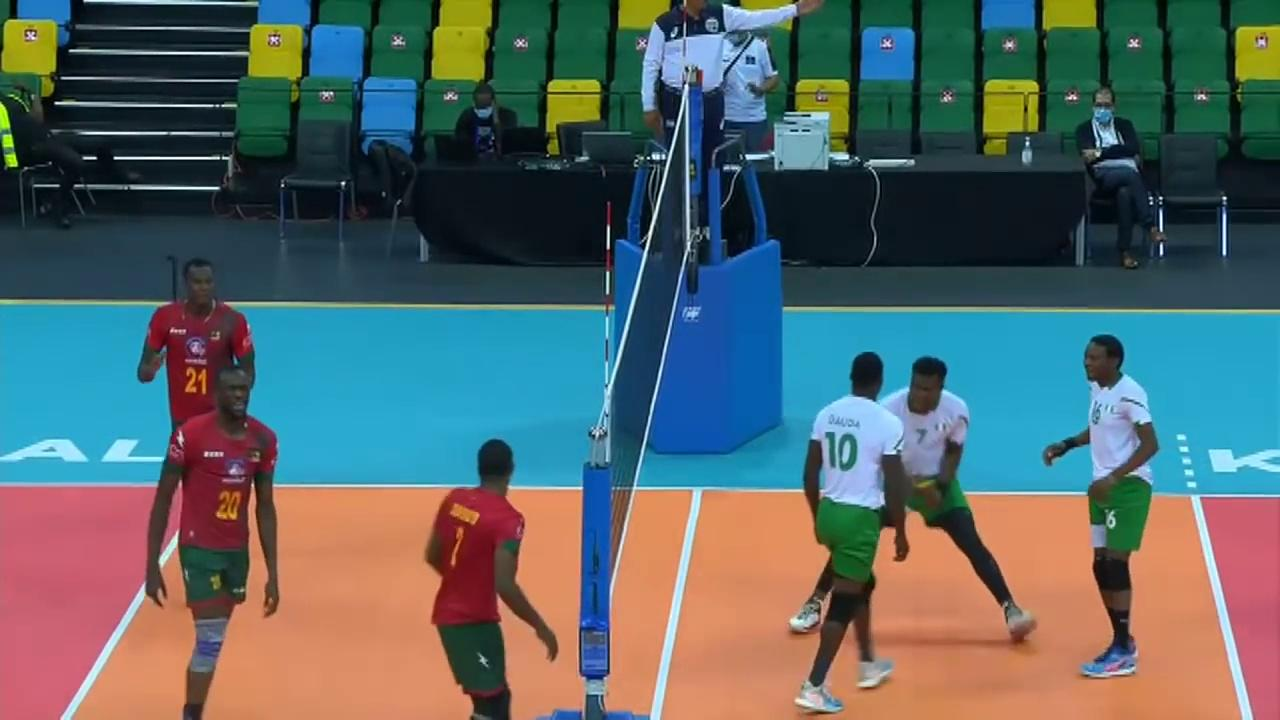player: (789, 354, 1042, 640), (151, 363, 282, 720), (141, 249, 268, 590), (797, 351, 912, 709), (419, 440, 562, 720), (1042, 337, 1159, 678)
refree: (635, 0, 761, 233)
